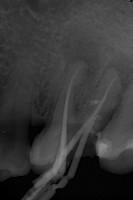Furcation Involvement: (61, 25, 105, 84), (102, 52, 133, 99)
